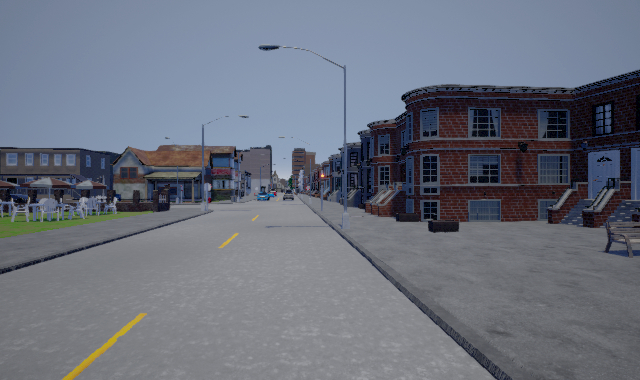traffic_light: (319, 172, 325, 185)
vehicle: (282, 190, 293, 200), (256, 191, 268, 200)
